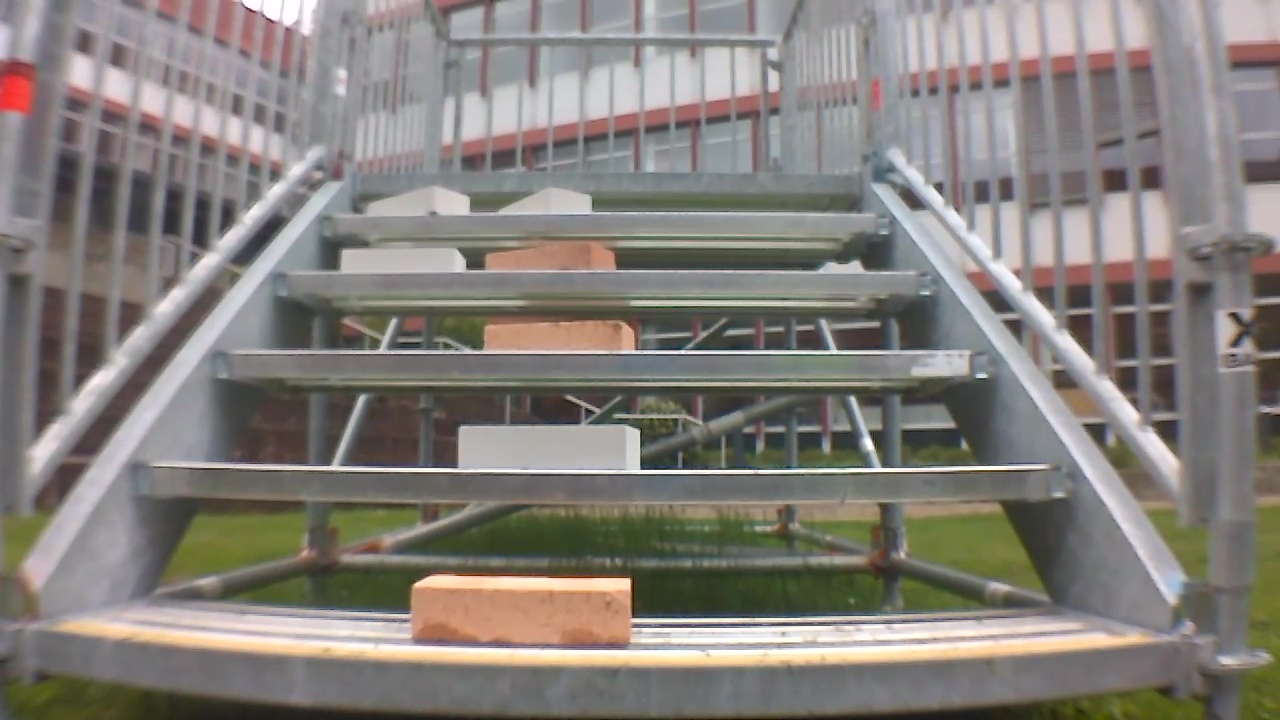brick: (411, 575, 630, 645), (459, 426, 639, 470), (485, 322, 634, 349), (486, 241, 613, 268), (341, 246, 463, 272), (368, 185, 469, 214), (500, 189, 591, 213)
edge: (33, 630, 1180, 715), (133, 462, 1070, 502), (210, 351, 995, 378), (275, 272, 934, 294), (322, 211, 894, 234), (359, 171, 863, 193)
stairs: (3, 3, 1273, 719)
steps: (21, 165, 1185, 717)
